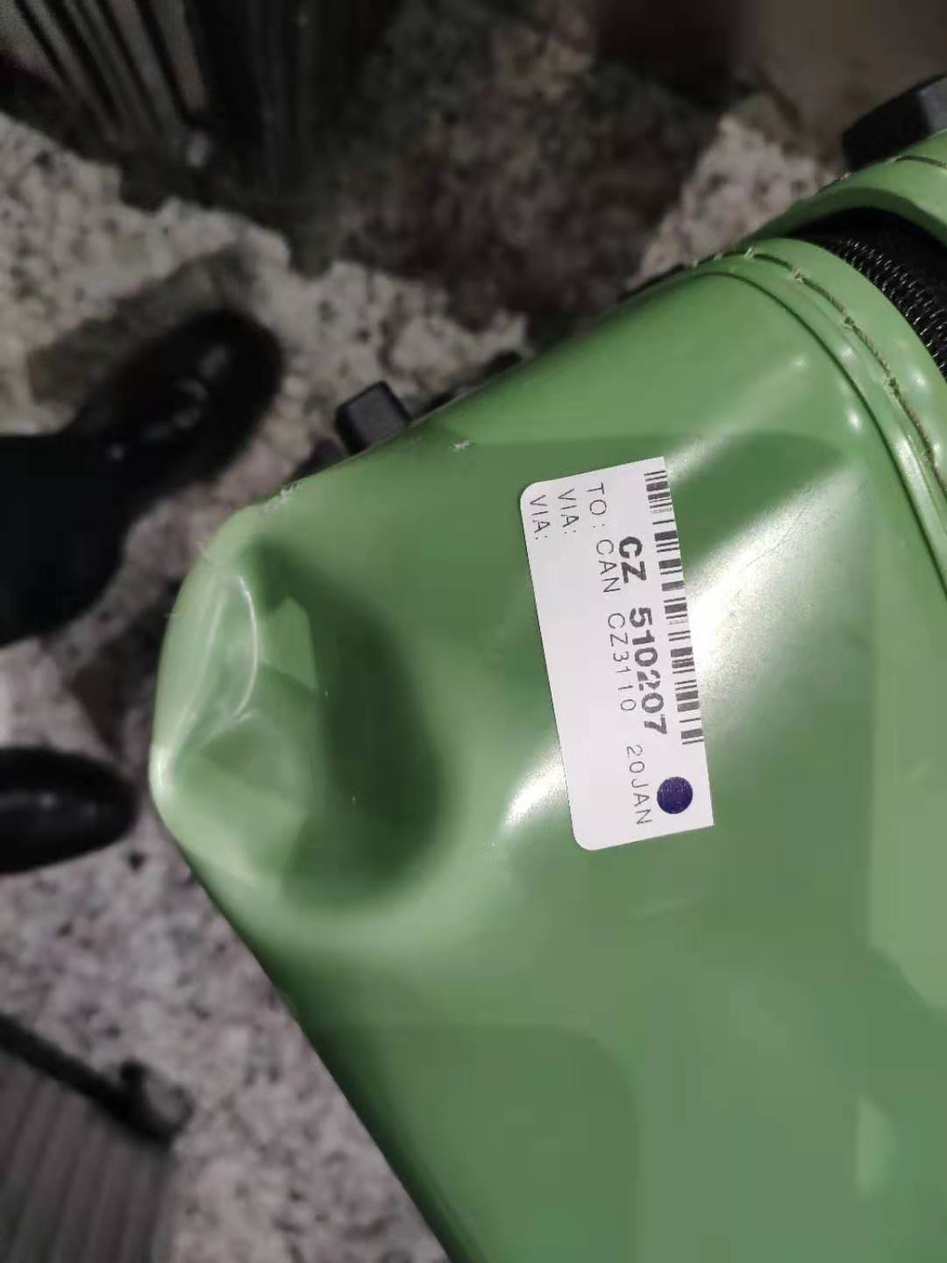hollow: (149, 511, 479, 934)
